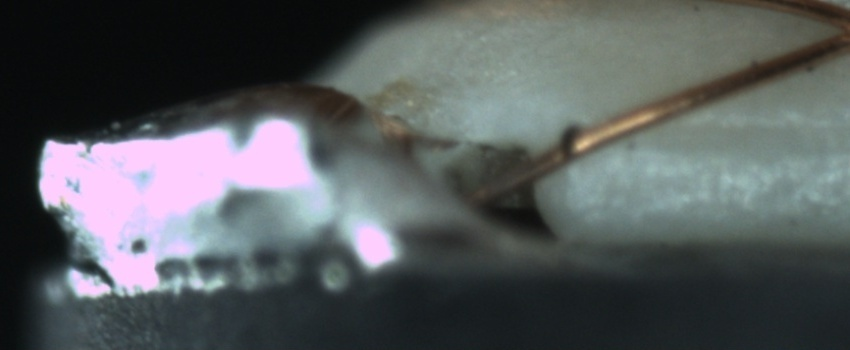CL: (814, 6, 849, 53)
DL: (634, 92, 845, 167)
